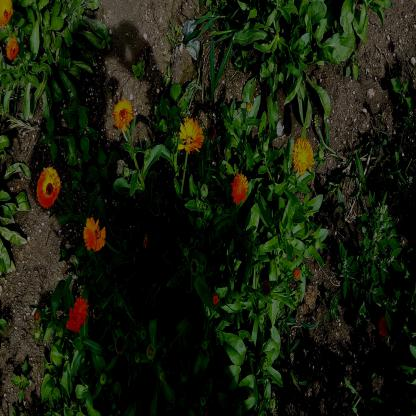marigold: (177, 116, 204, 154), (36, 167, 61, 207), (292, 136, 314, 176), (82, 214, 106, 250), (66, 295, 89, 331), (113, 99, 134, 130), (230, 172, 248, 204), (377, 310, 394, 340), (0, 0, 14, 29), (6, 35, 20, 59)
